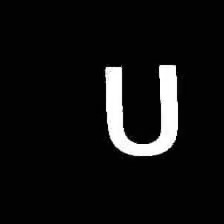LTR_U: (95, 55, 191, 163)
